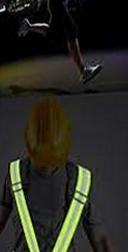Vest: (7, 158, 91, 252)
